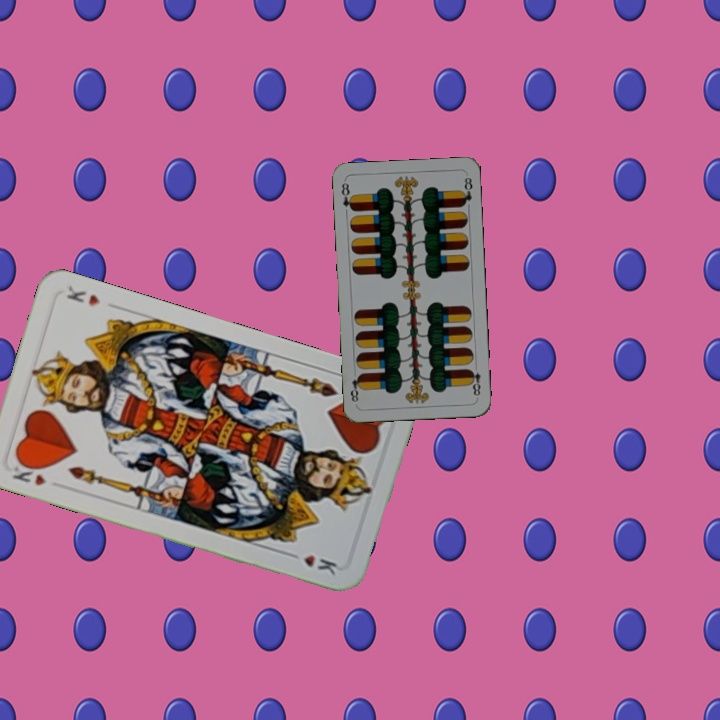E8: (337, 179, 356, 214), (466, 365, 483, 400)
HK: (8, 457, 48, 489)
